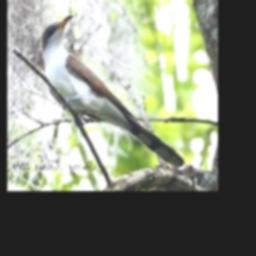Cuckoo: (42, 15, 185, 167)
